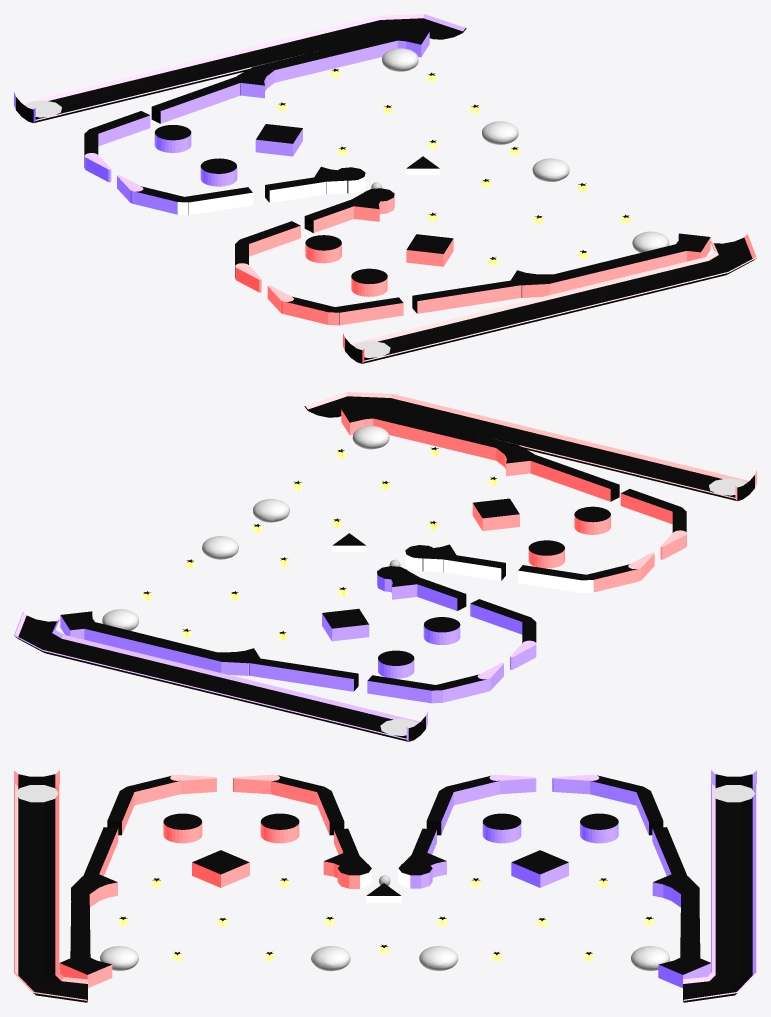
The model's file is inside2Players.glb.
The picture shows the model from 3 angles, top to bottom: view 1: azimuth 30°, elevation 25°; view 2: azimuth 150°, elevation 25°; view 3: azimuth 270°, elevation 25°; orthographic projection. The views are drawn at different scales.
Parts seen in each view (by area): view 1: BlackHoleLauncher, Cubo.004, Cubo.015, Cubo.002, Cubo.013, rombo, Cubo.001, rombo.001, Cubo.022, Cubo.021, Cubo.012, Cubo.011 (+17 smaller); view 2: BlackHoleLauncher, Cubo.015, Cubo.004, Cubo.013, Cubo.002, Cubo.012, Cubo.011, rombo.001, rombo, Cubo.010, Cubo.001, Cubo.022 (+18 smaller); view 3: BlackHoleLauncher, rombo.001, rombo, Cubo.015, Cubo.004, Cubo.016, Cubo.005, circular L, circular R.001, circular R, circular L.001, Cubo.017 (+26 smaller).
Part boxes in pixels (bbox=[...]): BlackHoleLauncher: bbox=[14, 14, 756, 363]; Cubo.004: bbox=[549, 244, 686, 294]; Cubo.015: bbox=[254, 33, 397, 82]; Cubo.002: bbox=[412, 280, 521, 313]; Cubo.013: bbox=[151, 77, 240, 123]; rombo: bbox=[406, 234, 453, 266]; Cubo.001: bbox=[335, 297, 403, 325]; rombo.001: bbox=[255, 124, 302, 156]; Cubo.022: bbox=[184, 187, 252, 214]; Cubo.021: bbox=[265, 177, 326, 202]; Cubo.012: bbox=[89, 111, 150, 146]; Cubo.011: bbox=[240, 221, 300, 256]; BlackHoleLauncher: bbox=[14, 392, 756, 741]; Cubo.015: bbox=[84, 622, 221, 672]; Cubo.004: bbox=[373, 411, 517, 460]; Cubo.013: bbox=[249, 658, 358, 691]; Cubo.002: bbox=[530, 454, 619, 501]; Cubo.012: bbox=[367, 675, 435, 703]; Cubo.011: bbox=[518, 565, 586, 592]; rombo.001: bbox=[322, 608, 369, 641]; rombo: bbox=[472, 498, 519, 530]; Cubo.010: bbox=[444, 555, 505, 580]; Cubo.001: bbox=[620, 489, 681, 524]; Cubo.022: bbox=[470, 599, 530, 634]; BlackHoleLauncher: bbox=[14, 770, 756, 1002]; rombo.001: bbox=[511, 850, 568, 887]; rombo: bbox=[192, 850, 249, 887]; Cubo.015: bbox=[680, 888, 700, 957]; Cubo.004: bbox=[70, 888, 90, 958]; Cubo.016: bbox=[658, 952, 711, 987]; Cubo.005: bbox=[59, 952, 112, 987]; circular L: bbox=[260, 813, 299, 843]; circular R.001: bbox=[482, 813, 521, 843]; circular R: bbox=[163, 813, 202, 843]; circular L.001: bbox=[580, 813, 618, 843]; Cubo.017: bbox=[590, 775, 650, 805].
Size of the model in its own units: 69.95 by 3.55 by 100.
